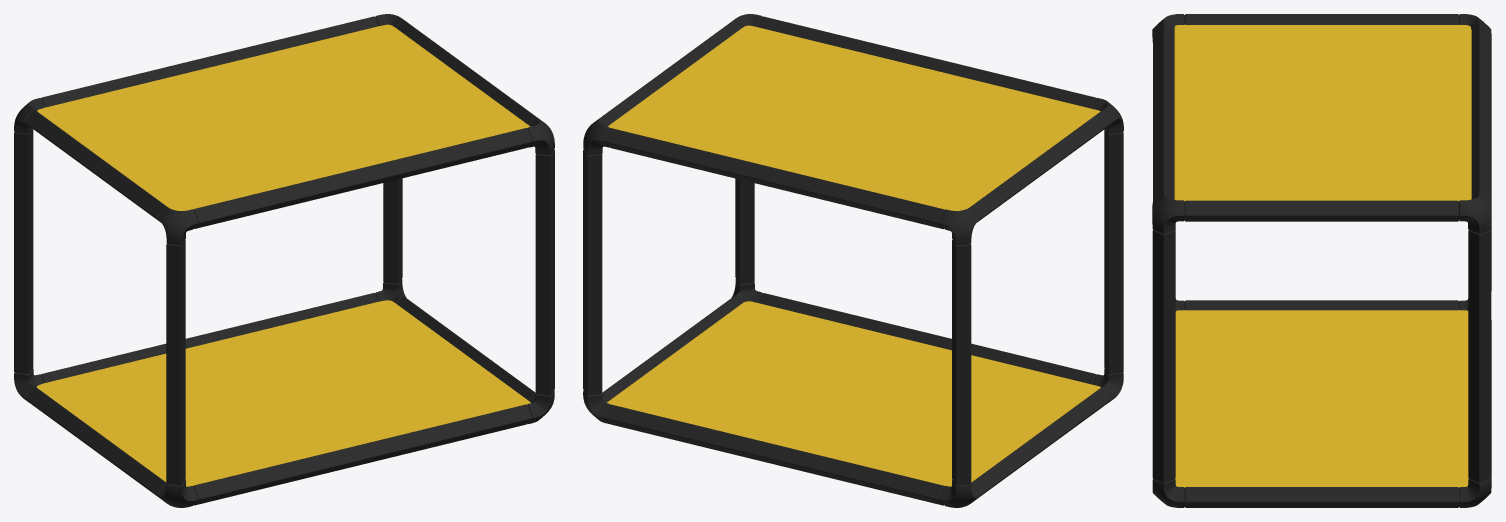
3 views of the same model, side by side, from view 1: azimuth 30°, elevation 25°; view 2: azimuth 150°, elevation 25°; view 3: azimuth 270°, elevation 25° (orthographic). The views are drawn at different scales.
Parts seen in each view (by area): view 1: 479x329x329; view 2: 479x329x329; view 3: 479x329x329.
Boxes of the visible parts, x1,y1,x2,y2 form: 479x329x329: (14, 14, 554, 507); 479x329x329: (583, 14, 1123, 507); 479x329x329: (1152, 14, 1491, 507).
Size of the model in its own units: 0.5567 by 0.4066 by 0.4063.
